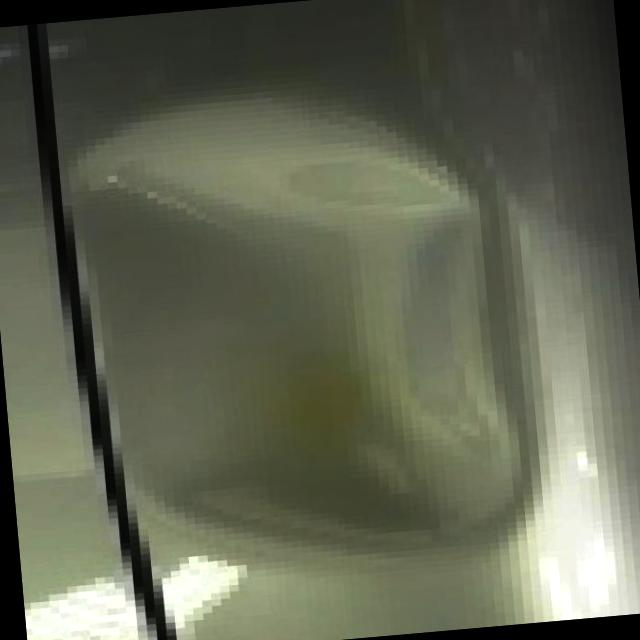dent: (54, 87, 536, 584)
